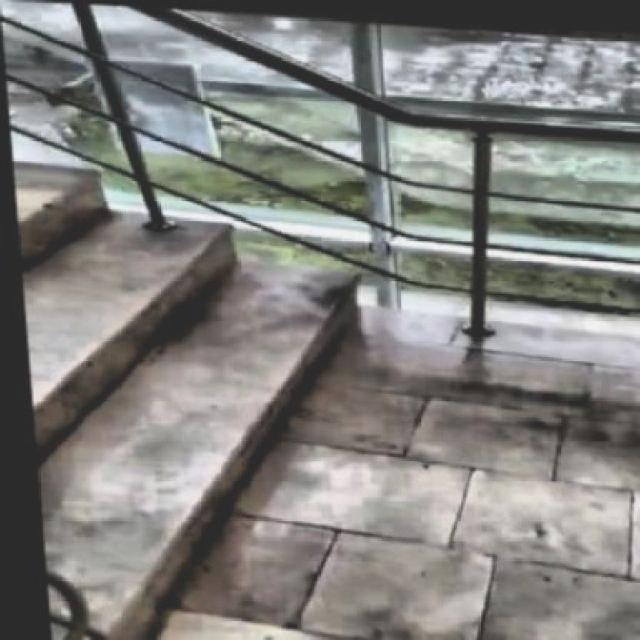stair: (11, 183, 411, 639)
